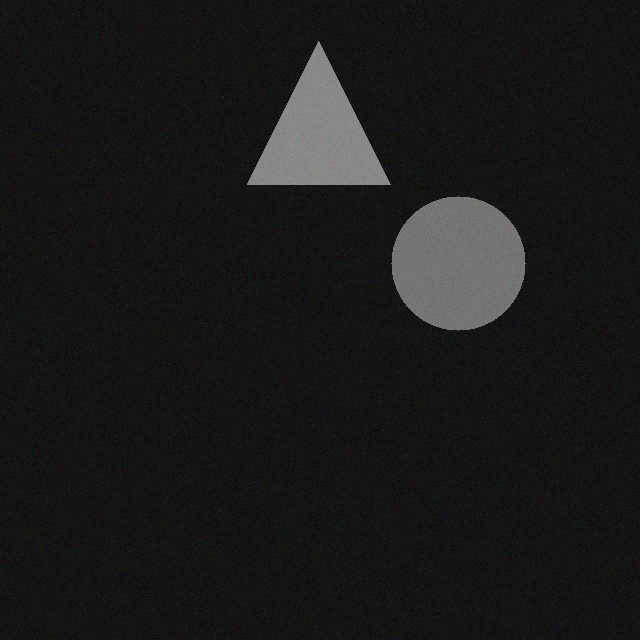circle: (402, 201, 536, 335)
triangle: (258, 46, 401, 189)
